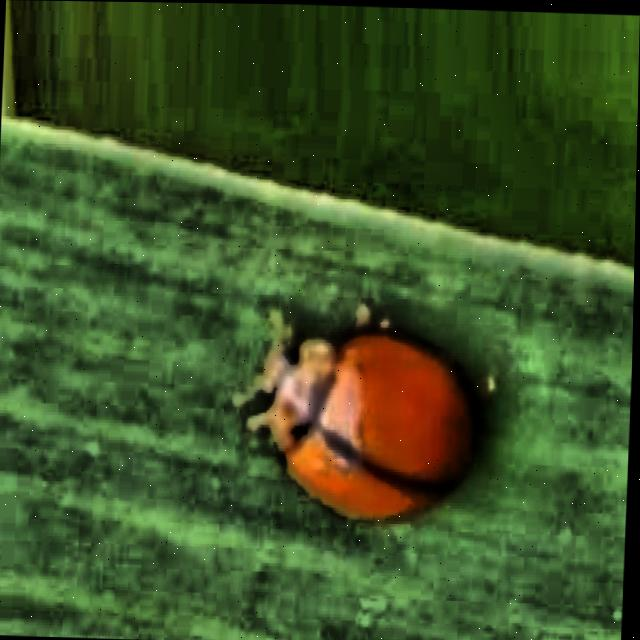Ladybug: (232, 192, 541, 619)
